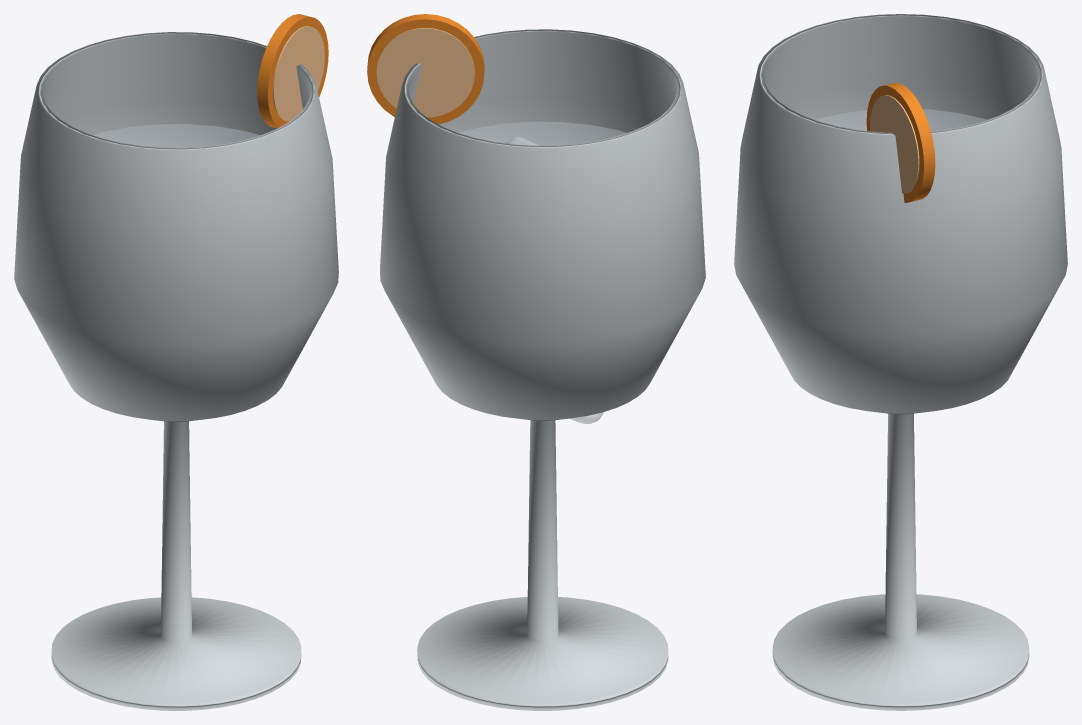
Rendered from cocktail-martin-miller-s-original.glb.
3 views of the same model, side by side, from view 1: azimuth 30°, elevation 25°; view 2: azimuth 150°, elevation 25°; view 3: azimuth 270°, elevation 25° (orthographic). The views are drawn at different scales.
Bounding box in the file's own units: 0.1124 × 0.2154 × 0.104.
